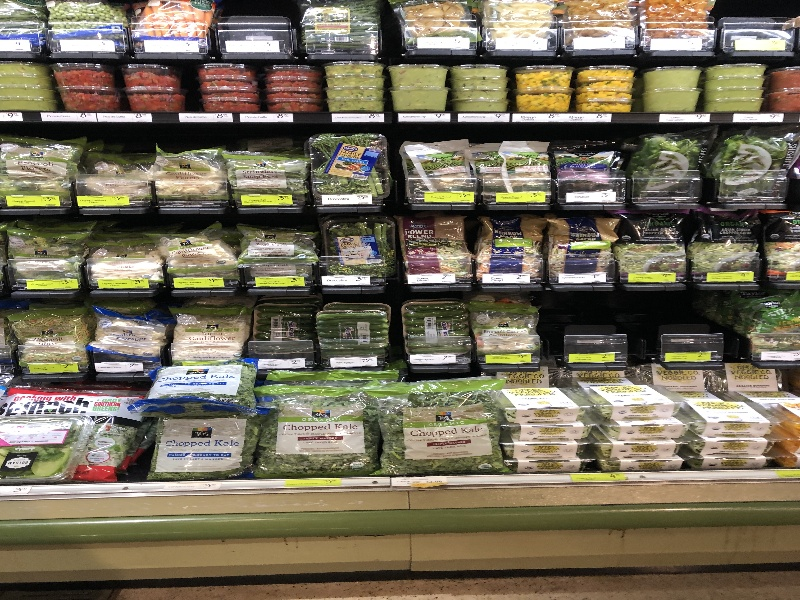void: (545, 292, 733, 365), (219, 1, 293, 51), (721, 1, 786, 44)
